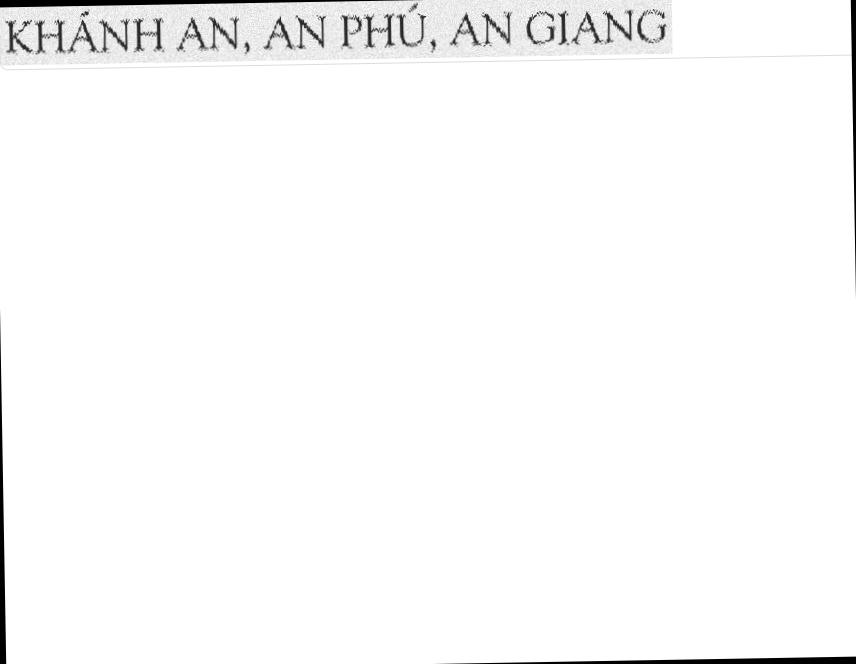text: (3, 0, 669, 59)
